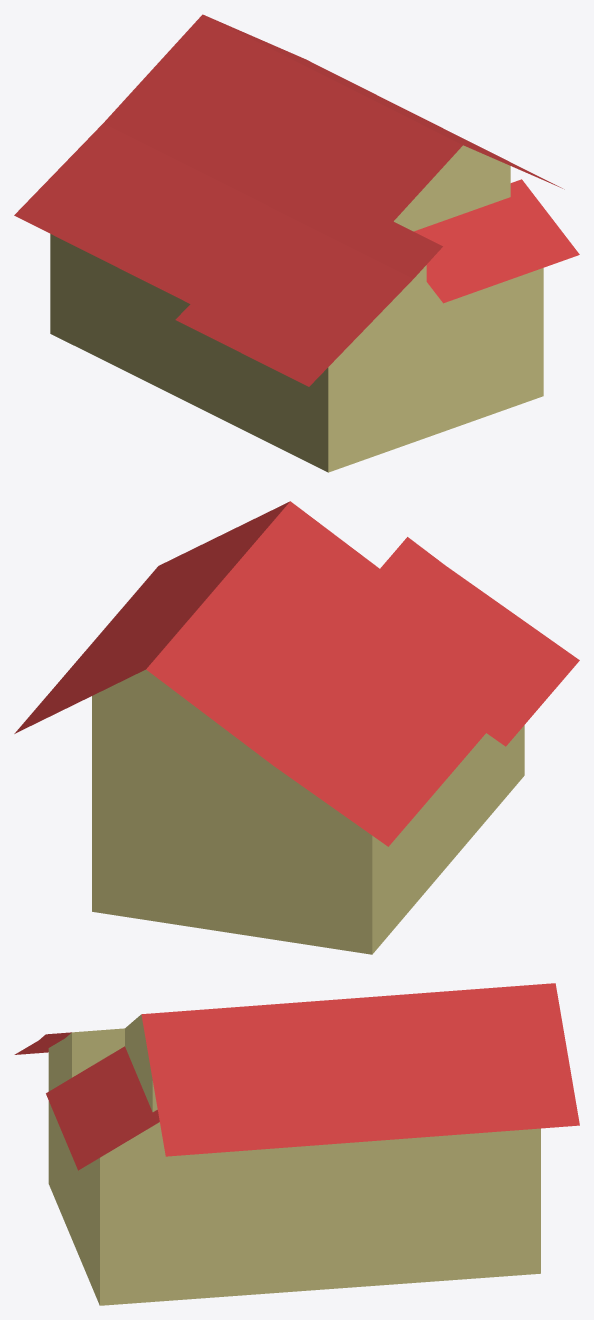
3 renders of one model, top to bottom at view 1: azimuth 30°, elevation 25°; view 2: azimuth 150°, elevation 25°; view 3: azimuth 270°, elevation 25°, orthographic. The views are drawn at different scales.
Size of the model in its own units: 17.32 by 21.17 by 10.77.
